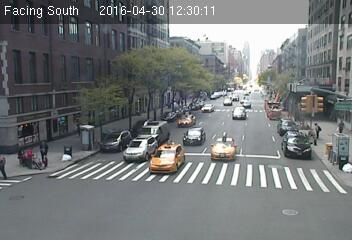neg: (133, 120, 154, 148), (151, 173, 172, 200), (209, 113, 228, 139), (281, 160, 300, 185), (288, 39, 306, 63), (234, 153, 250, 174), (82, 76, 97, 95), (108, 98, 123, 117), (73, 129, 88, 148), (174, 66, 187, 84)
pos: (33, 137, 54, 166), (312, 120, 326, 139), (334, 117, 347, 134)
